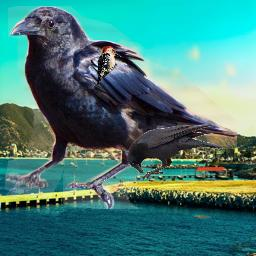Crow: (5, 6, 237, 209), (127, 124, 225, 181)
Woodpecker: (97, 46, 122, 85)
